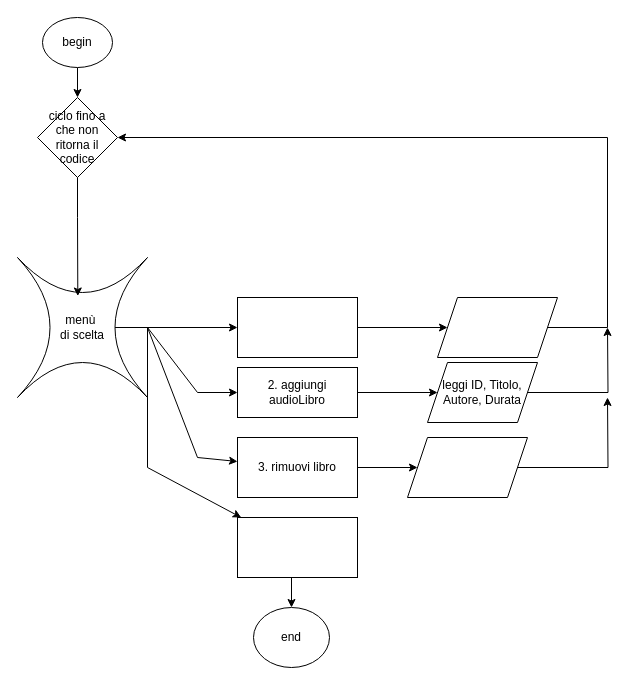
This 634x685 diagram has some shape labels left out. Here are the shapes that lost their labels. From the top down, the centre of each, then its label:
(x=297, y=327): 1.aggiungi libro
(x=497, y=327): leggi ID, Titolo, Autore
(x=467, y=467): leggi ID
(x=297, y=547): 4. esci dal menù
